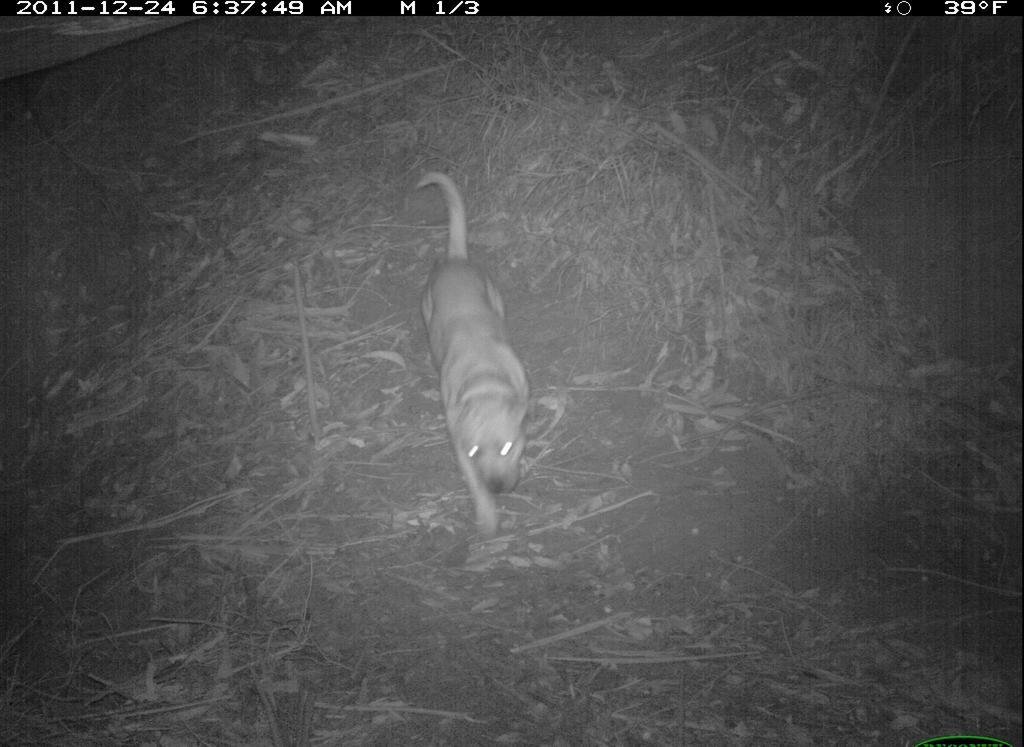dog: (408, 167, 552, 546)
